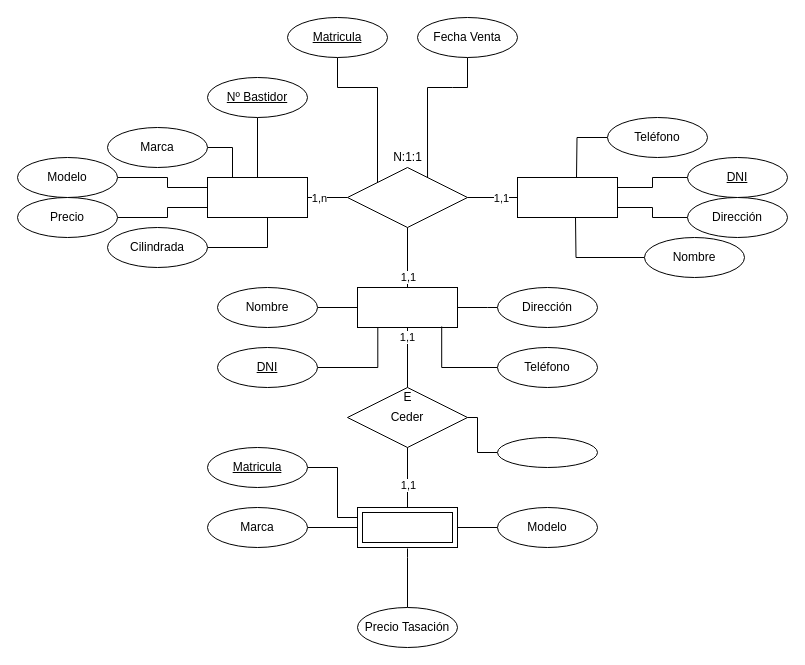
This 805x665 diagram has some shape labels left out. The box of each missing label's shape, as (x1, y1, x2, y2) in pixels:
Cliente: (356, 286, 458, 328)
Coche Usado: (356, 506, 458, 548)
Fecha Cesión: (496, 436, 598, 468)
Vehículo Nuevo: (206, 176, 308, 218)
Vendedor: (516, 176, 618, 218)
Vender: (346, 166, 468, 228)
